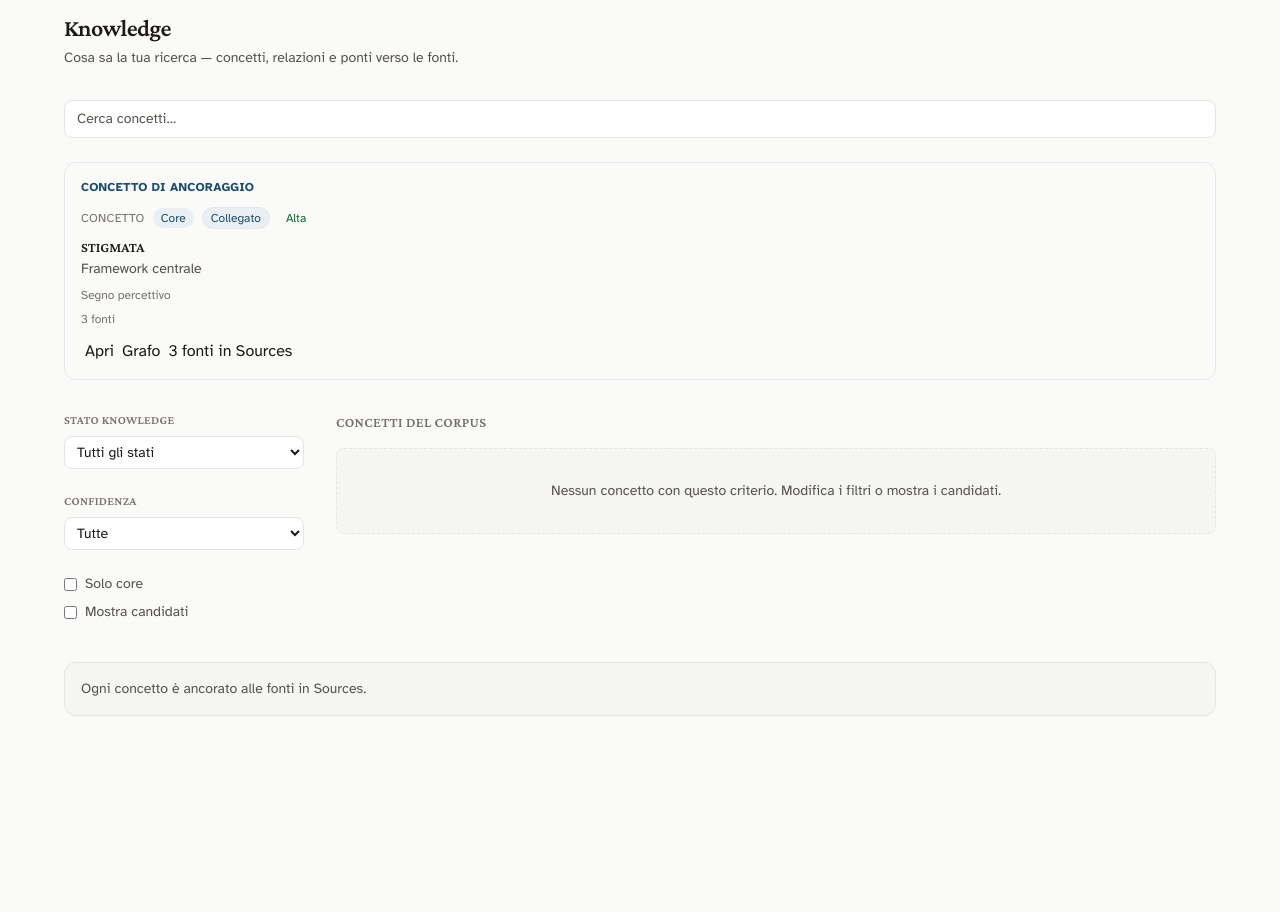
KnowledgeExplorer › shows candidates when toggle enabled
Click the checkbox labelled "Mostra candidati" at (70, 612), box [64,606,77,618]
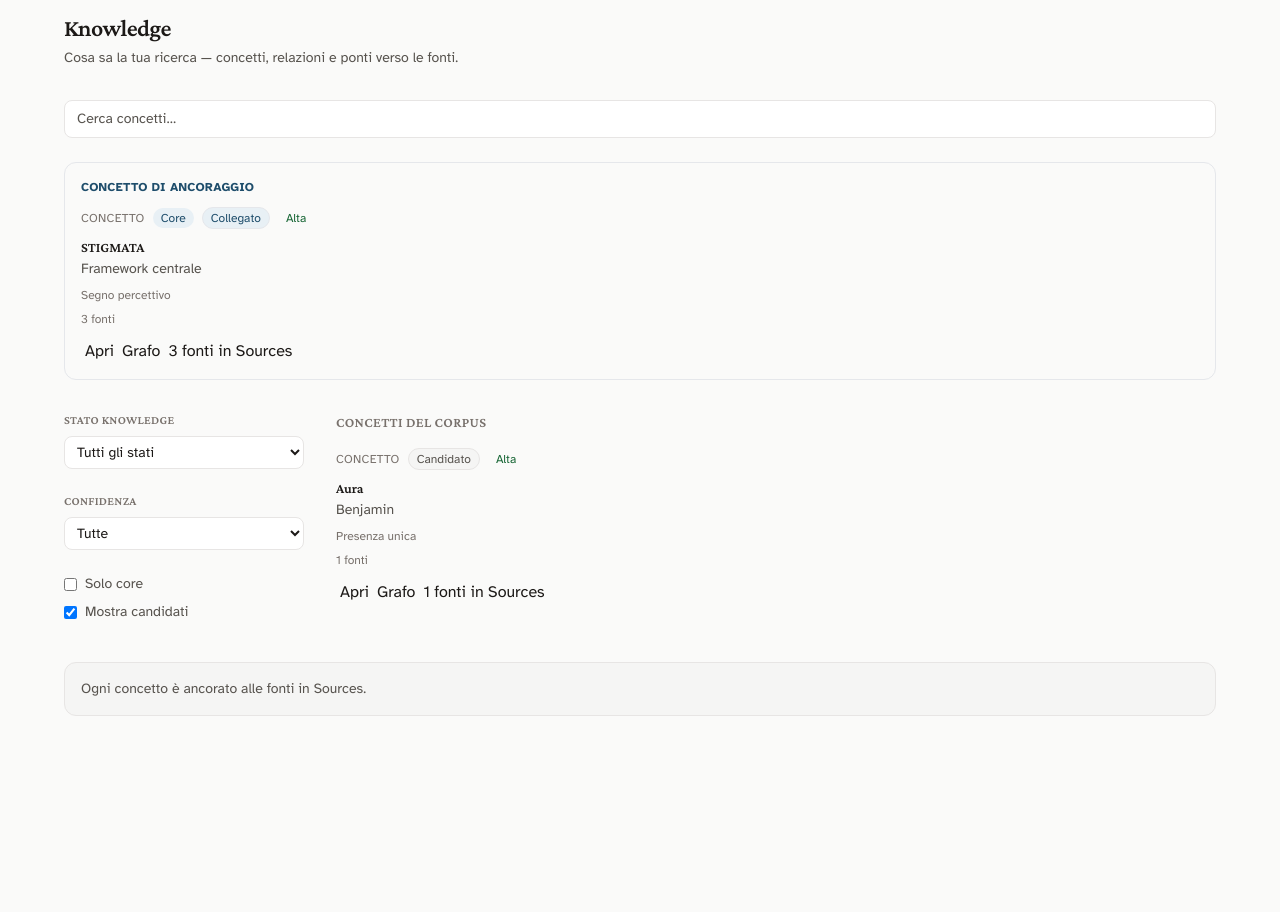
Expected: the heading "Aura" is shown, [336,480,364,496]
